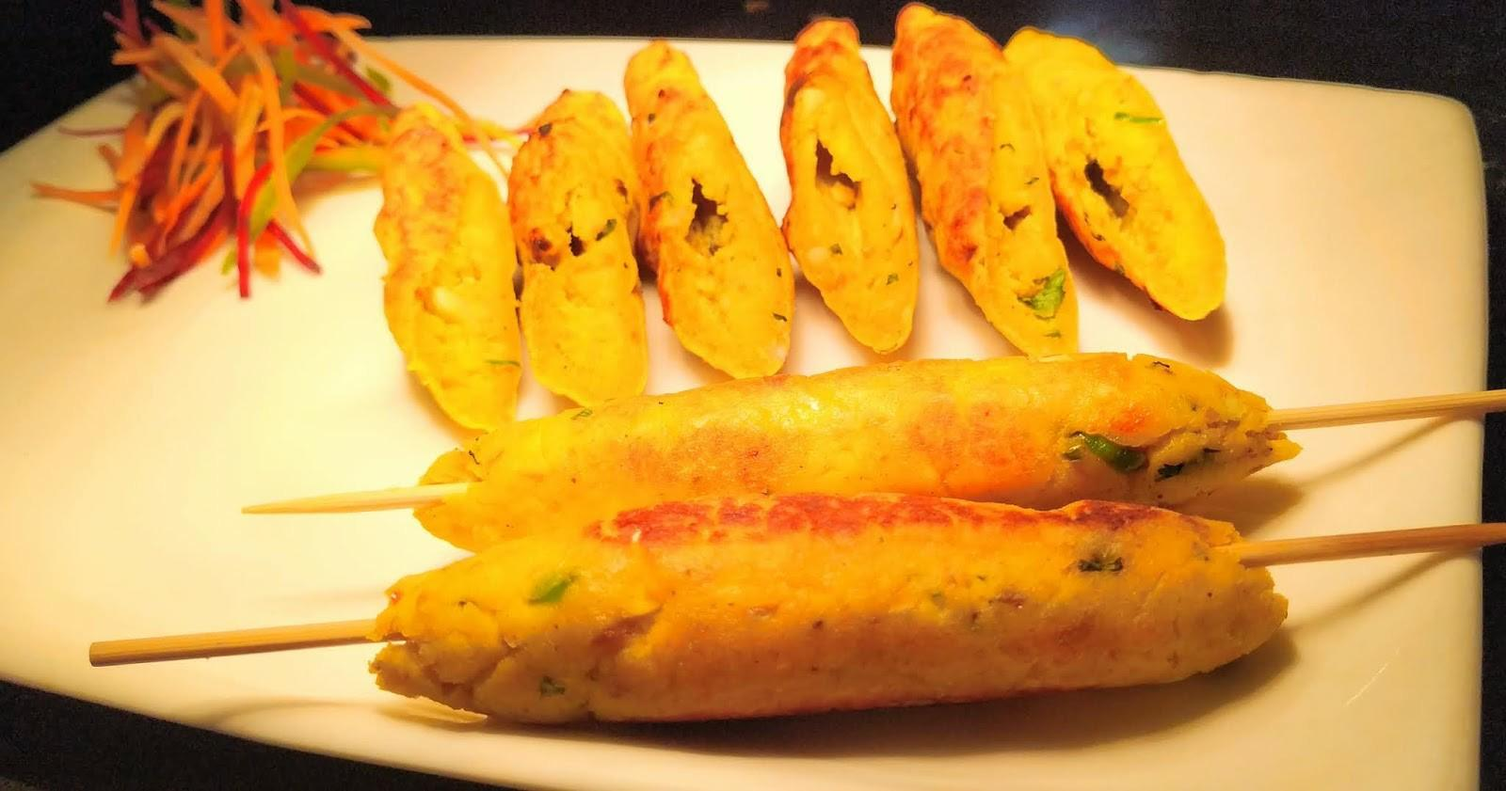Kebab: (366, 494, 1287, 719), (412, 353, 1306, 555), (889, 2, 1079, 356), (1005, 26, 1225, 319), (622, 43, 791, 377), (374, 105, 528, 427), (780, 19, 918, 355), (508, 90, 650, 409)
